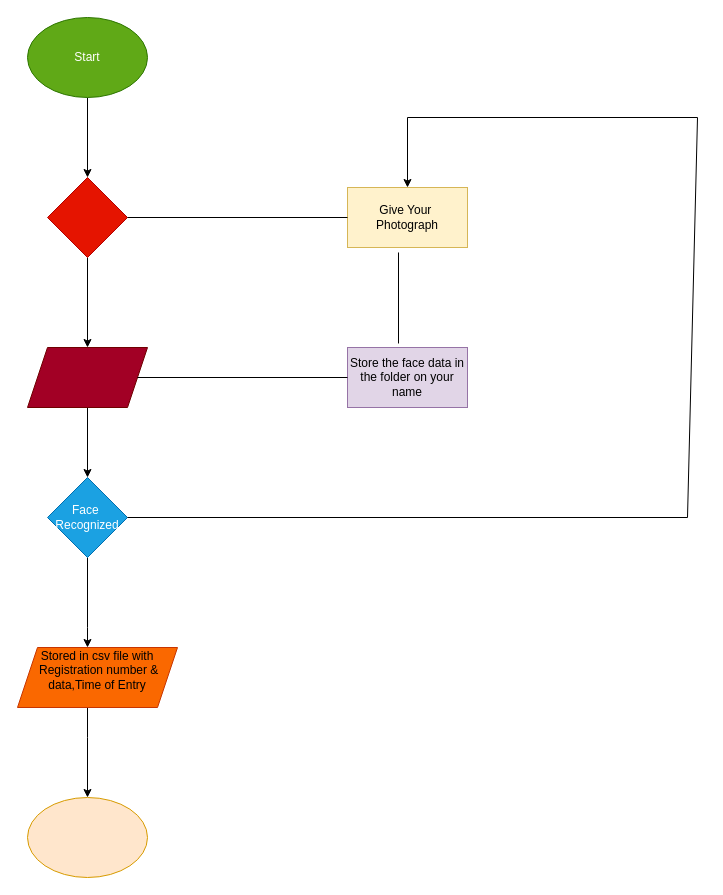
Some shapes in this 723 by 895 pixel diagram are drawn without their labels. The shapes that lost their labels are listed below. From the top down, each one's centre as x and y in pixels, then its label:
point 87,217: New User ?
point 87,377: Recognize The face
point 87,837: Stop
